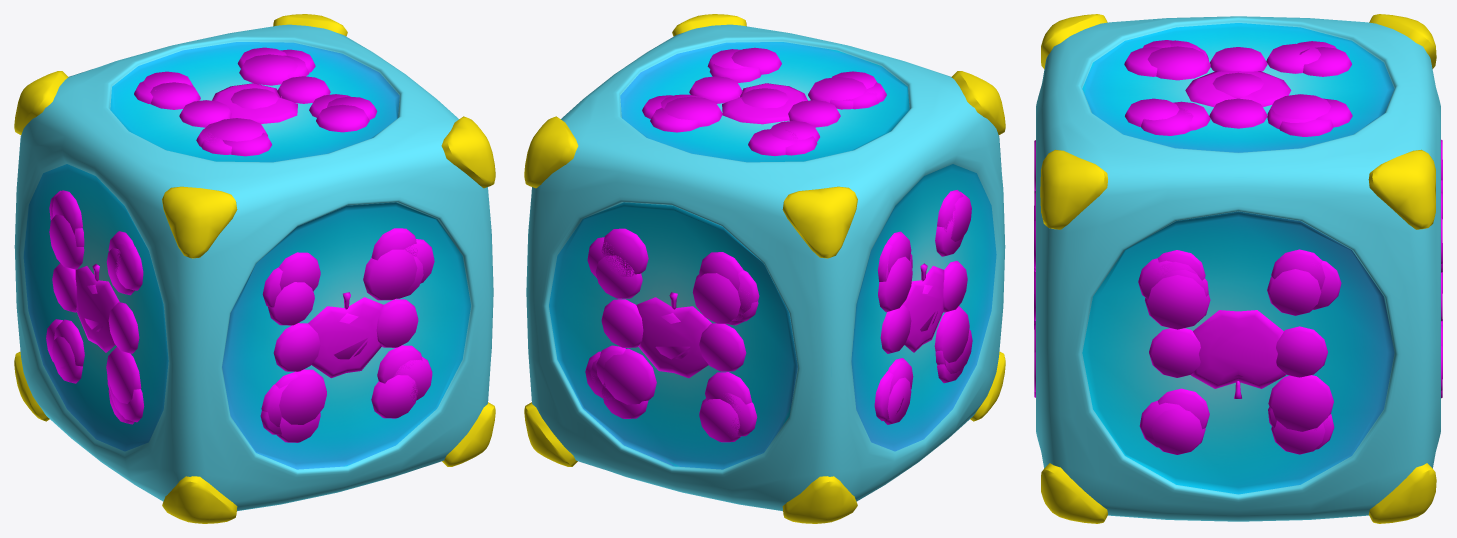
Rendered from Dice.fbx.
3 views of the same model, side by side, from view 1: azimuth 30°, elevation 25°; view 2: azimuth 150°, elevation 25°; view 3: azimuth 270°, elevation 25° (orthographic). The views are drawn at different scales.
Visible parts, largest first — view 1: Dice, acessery, Sphere5_06, Sphere2_06, Sphere4_06, Sphere5_02, Sphere5_01, Sphere5_04, Sphere4_02, Sphere5_05, Sphere2_02, Sphere4_01 (+6 smaller); view 2: Dice, acessery, Sphere3_06, Sphere2_06, Sphere4_06, Sphere3_02, Sphere3_01, Sphere3_04, Sphere3_05, Sphere4_02, Sphere2_02, Sphere4_01 (+5 smaller); view 3: Dice, acessery, Sphere6_06, Sphere2_06, Sphere6_01, Sphere6_02, Sphere6_04, Sphere2_05, Sphere2_02, Sphere6_05, Sphere2_04, Sphere2_01.
Boxes of the visible parts, <box> form: Dice: <box>14,24,493,511</box>; acessery: <box>14,14,495,523</box>; Sphere5_06: <box>273,228,418,442</box>; Sphere2_06: <box>143,47,369,156</box>; Sphere4_06: <box>52,190,139,424</box>; Sphere5_02: <box>279,249,417,424</box>; Sphere5_01: <box>308,292,383,378</box>; Sphere5_04: <box>268,256,423,388</box>; Sphere4_02: <box>49,214,141,403</box>; Sphere5_05: <box>260,239,434,434</box>; Sphere2_02: <box>209,54,297,141</box>; Sphere4_01: <box>75,264,119,352</box>; Dice: <box>526,24,1005,511</box>; acessery: <box>524,14,1005,523</box>; Sphere3_06: <box>601,228,746,442</box>; Sphere2_06: <box>650,47,877,156</box>; Sphere4_06: <box>880,190,967,424</box>; Sphere3_02: <box>602,273,740,404</box>; Sphere3_01: <box>636,292,711,378</box>; Sphere3_04: <box>595,255,751,412</box>; Sphere3_05: <box>585,237,759,436</box>; Sphere4_02: <box>878,256,969,362</box>; Sphere2_02: <box>664,77,866,126</box>; Sphere4_01: <box>903,263,944,352</box>; Dice: <box>1036,16,1440,521</box>; acessery: <box>1040,14,1436,523</box>; Sphere6_06: <box>1149,249,1327,454</box>; Sphere2_06: <box>1124,47,1352,128</box>; Sphere6_01: <box>1191,310,1285,398</box>; Sphere6_02: <box>1145,275,1333,431</box>; Sphere6_04: <box>1157,269,1321,429</box>; Sphere2_05: <box>1141,40,1336,136</box>; Sphere2_02: <box>1147,46,1331,119</box>; Sphere6_05: <box>1138,258,1341,449</box>; Sphere2_04: <box>1173,43,1320,130</box>; Sphere2_01: <box>1185,71,1291,107</box>.
Size of the model in its own units: 198 by 198 by 198.
